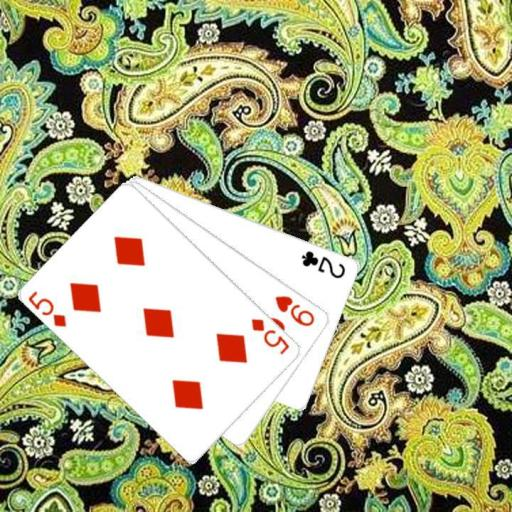2C: (299, 248, 348, 280)
5D: (25, 288, 68, 330), (248, 315, 292, 356)
9H: (273, 292, 317, 329)
